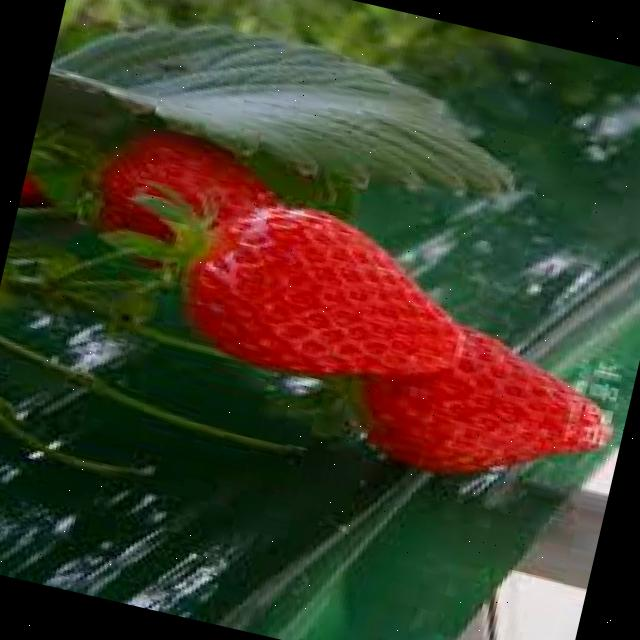strawberry: (169, 182, 487, 408), (341, 304, 620, 504)
